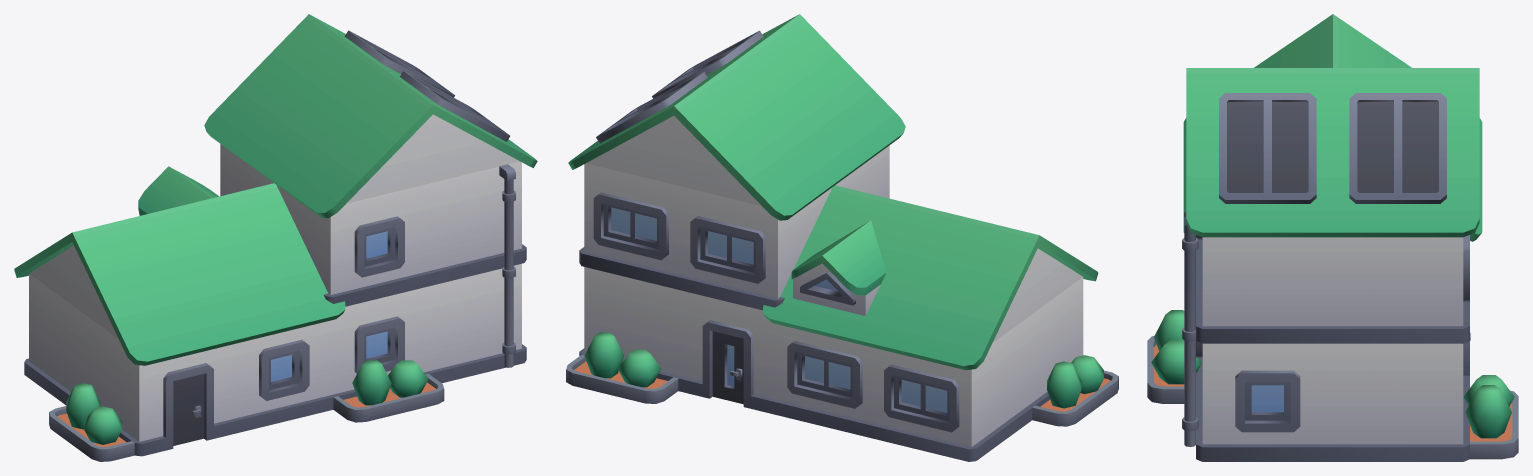
Rendered from k-city-kit-suburban-building-type-b.glb.
3 views of the same model, side by side, from view 1: azimuth 30°, elevation 25°; view 2: azimuth 150°, elevation 25°; view 3: azimuth 270°, elevation 25° (orthographic). The views are drawn at different scales.
Visible parts, largest first — view 1: building-type-b; view 2: building-type-b; view 3: building-type-b.
Part boxes in pixels (x1=…): building-type-b: x1=14, y1=14, x2=537, y2=461; building-type-b: x1=566, y1=14, x2=1118, y2=461; building-type-b: x1=1147, y1=14, x2=1518, y2=461.
Bounding box in the file's own units: 1.83 × 1.14 × 1.14.
1 material, 1 textured.
